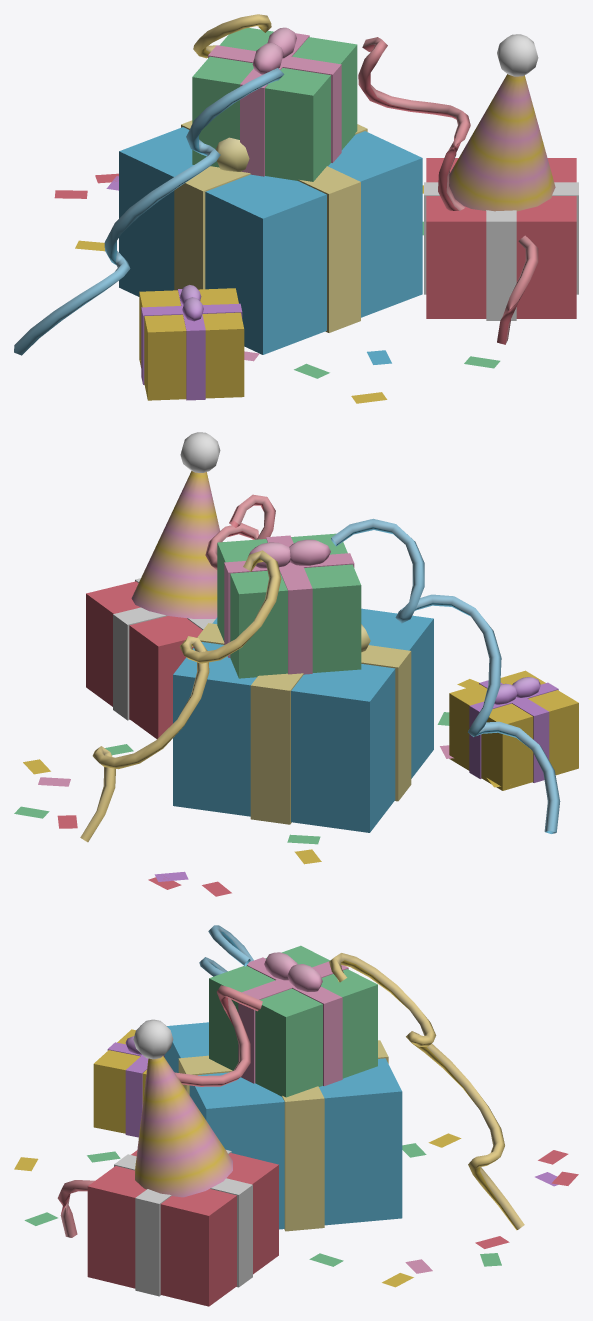
The model's file is festival_gifts.glb.
The picture shows the model from 3 angles, top to bottom: view 1: azimuth 30°, elevation 25°; view 2: azimuth 150°, elevation 25°; view 3: azimuth 270°, elevation 25°; orthographic projection. The views are drawn at different scales.
Parts seen in each view (by area): view 1: body; view 2: body; view 3: body.
Part boxes in pixels (box(x1,y1,x2,y2)): body: box(14, 14, 578, 403); body: box(14, 432, 578, 896); body: box(14, 925, 578, 1306).
Size of the model in its own units: 0.5649 by 0.2714 by 0.5644.
